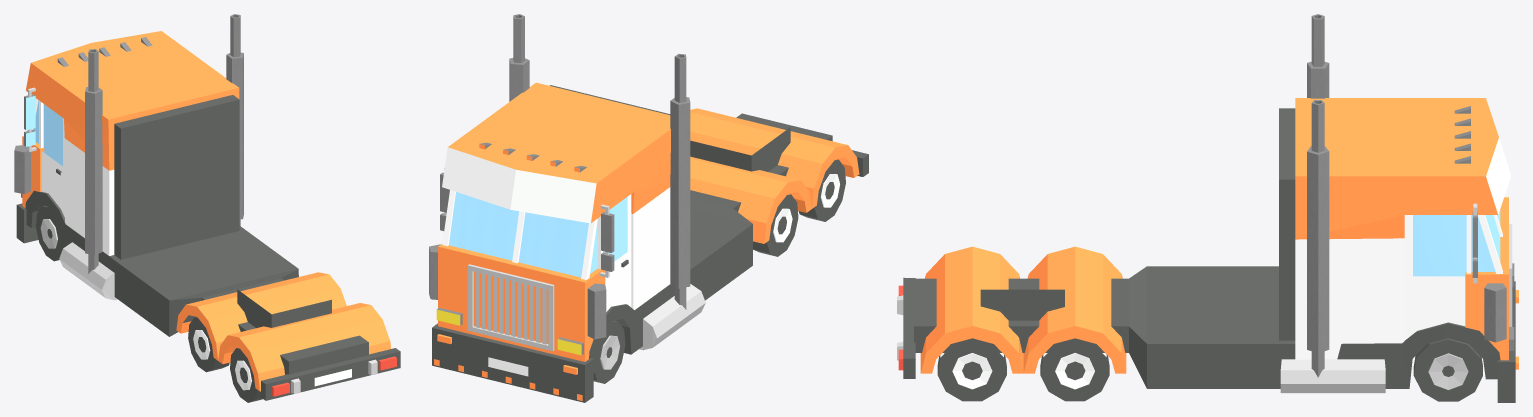
Rendered from transport_truck.002.glb.
3 views of the same model, side by side, from view 1: azimuth 30°, elevation 25°; view 2: azimuth 150°, elevation 25°; view 3: azimuth 270°, elevation 25° (orthographic). The views are drawn at different scales.
Visible parts, largest first — view 1: transport_truck.002(Clone); view 2: transport_truck.002(Clone); view 3: transport_truck.002(Clone).
Boxes of the visible parts, x1=… form: transport_truck.002(Clone): x1=14, y1=14, x2=400, y2=402; transport_truck.002(Clone): x1=429, y1=14, x2=868, y2=402; transport_truck.002(Clone): x1=897, y1=14, x2=1518, y2=402.
Size of the model in its own units: 2.13 by 3.18 by 5.87.
Materials: 1 (1 with a texture image).
